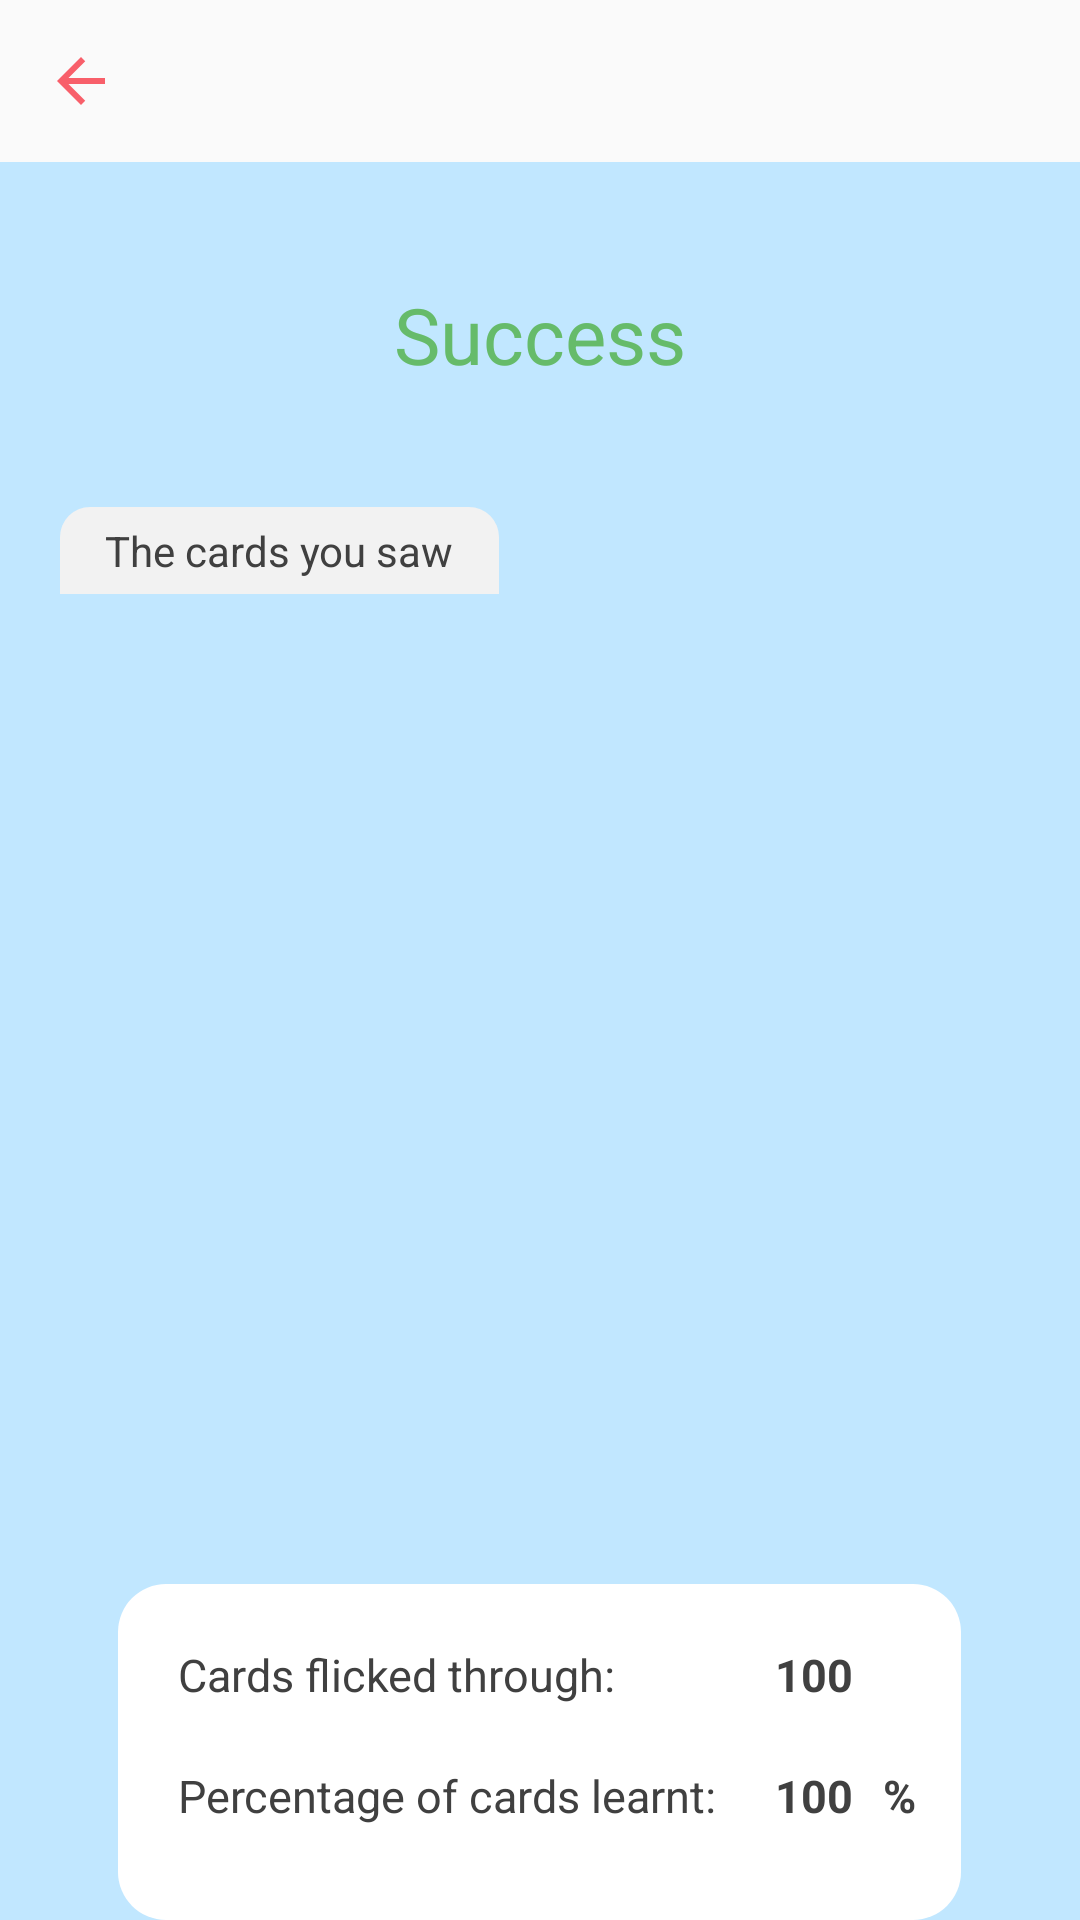

Where icons sit on this 1080×1920 app screen, as [left=x1, top=y1, right=x2, bottom=y2]:
back: [left=57, top=57, right=105, bottom=105]
